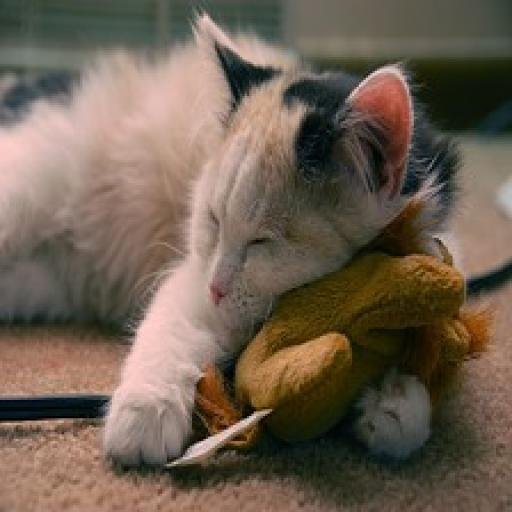cat: (0, 9, 481, 486)
